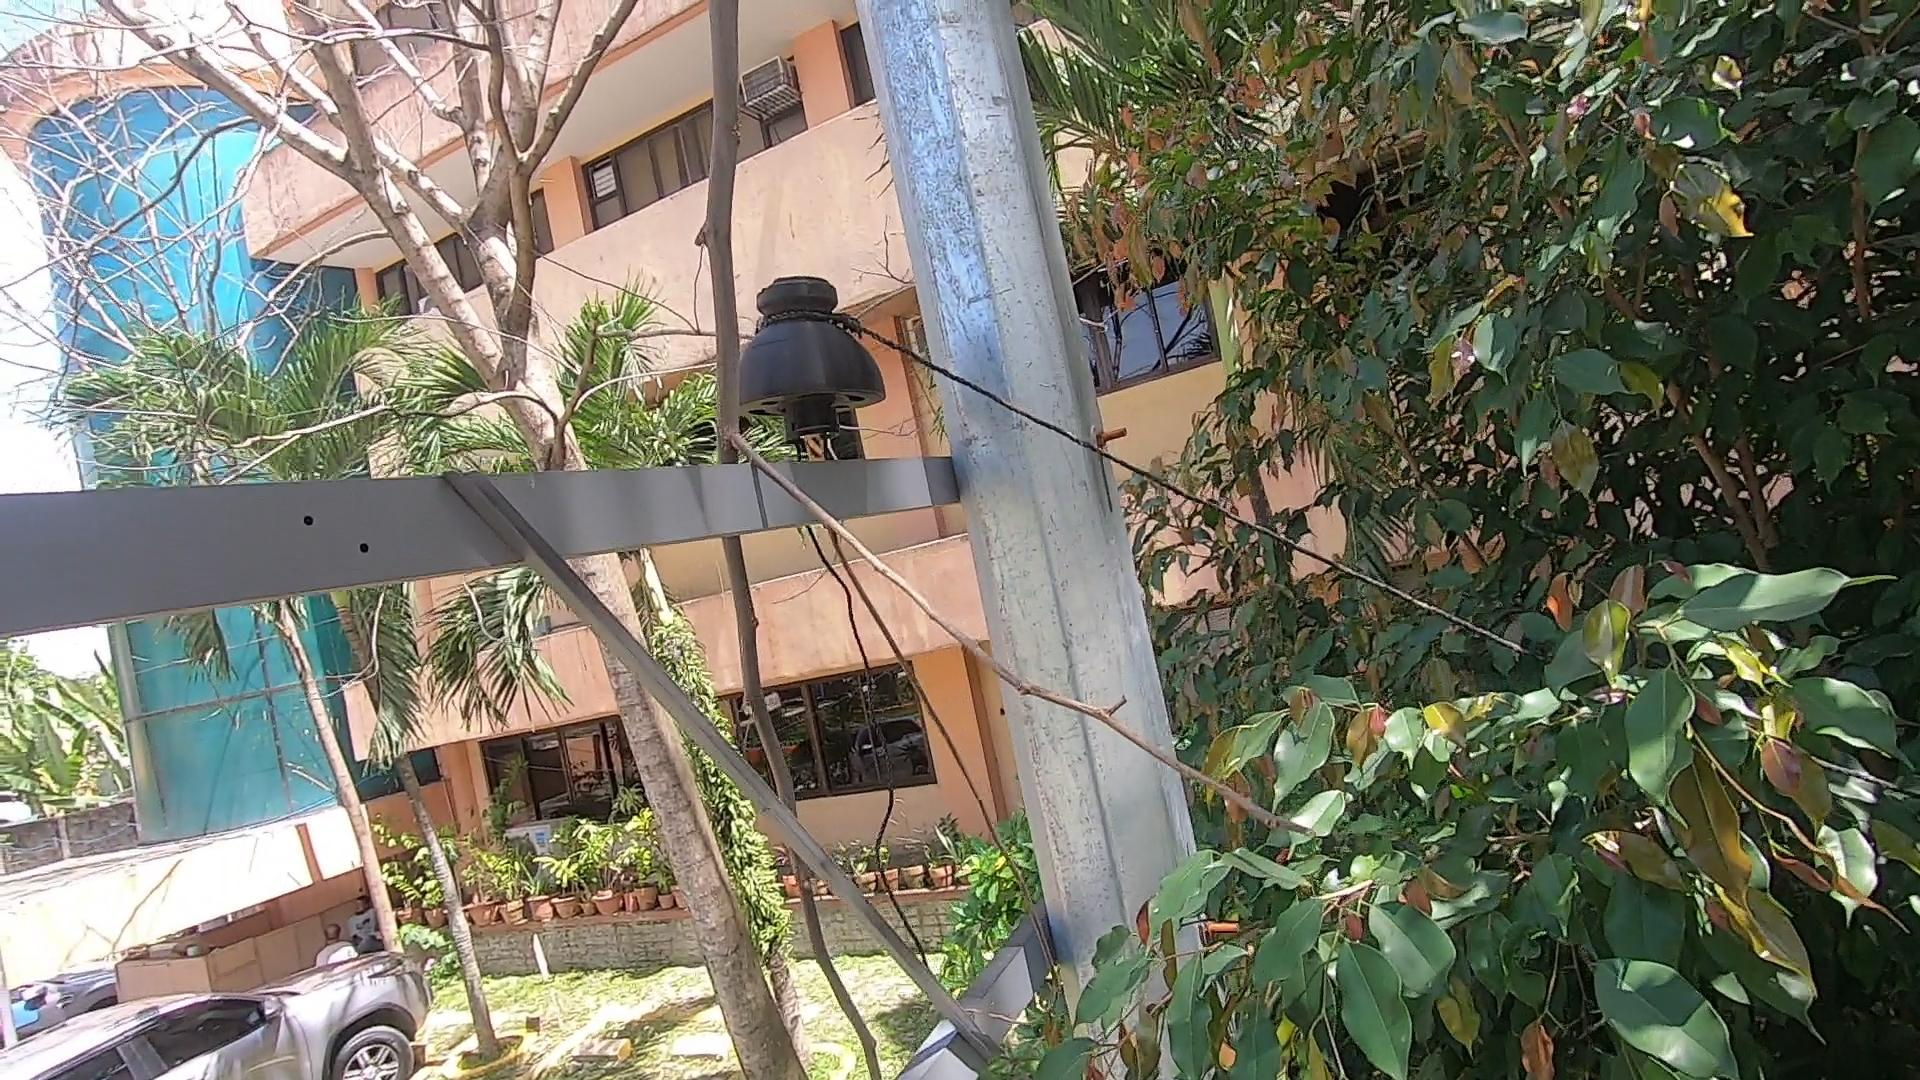tree branch: (642, 1, 905, 1080)
